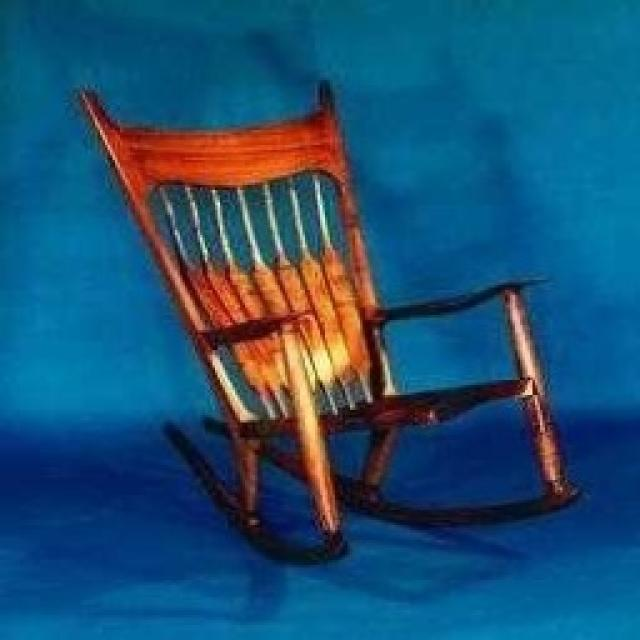sandalye: (75, 78, 580, 562)
